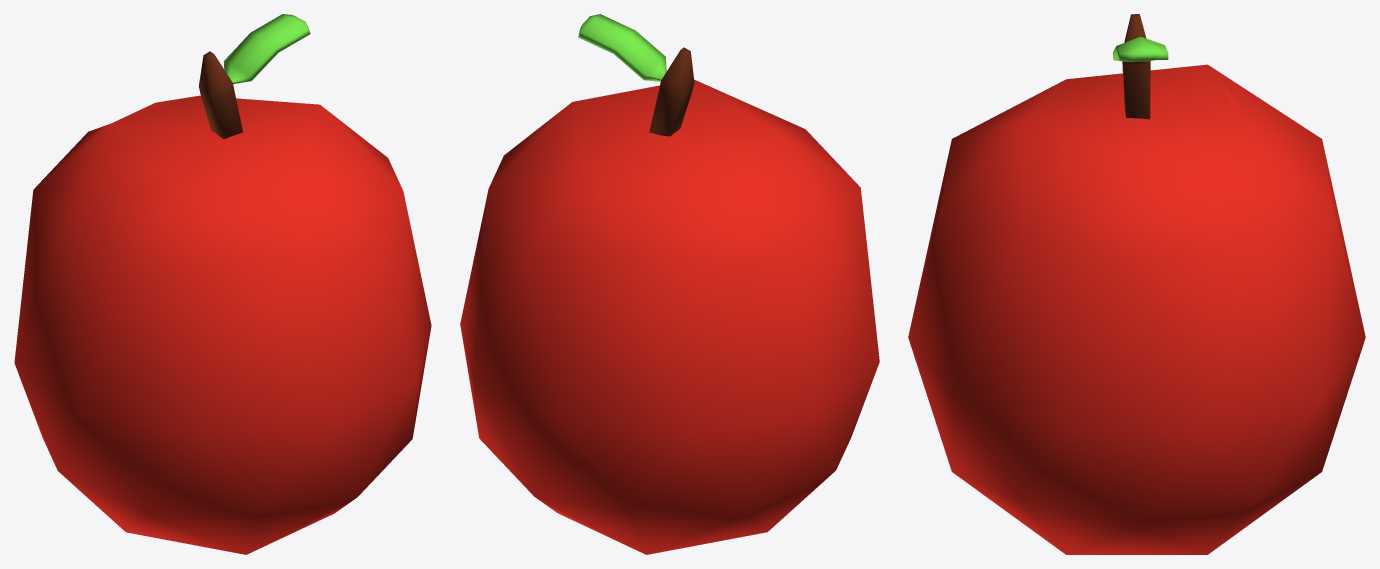
The model's file is apple.fbx.
3 renders of one model, left to right at view 1: azimuth 30°, elevation 25°; view 2: azimuth 150°, elevation 25°; view 3: azimuth 270°, elevation 25°, orthographic. The views are drawn at different scales.
Visible parts, largest first — view 1: Icosphere; view 2: Icosphere; view 3: Icosphere.
Boxes of the visible parts, x1,y1,x2,y2 form: Icosphere: [14, 14, 431, 554]; Icosphere: [460, 14, 879, 554]; Icosphere: [908, 14, 1365, 554].
Size of the model in its own units: 190 by 245 by 200.
